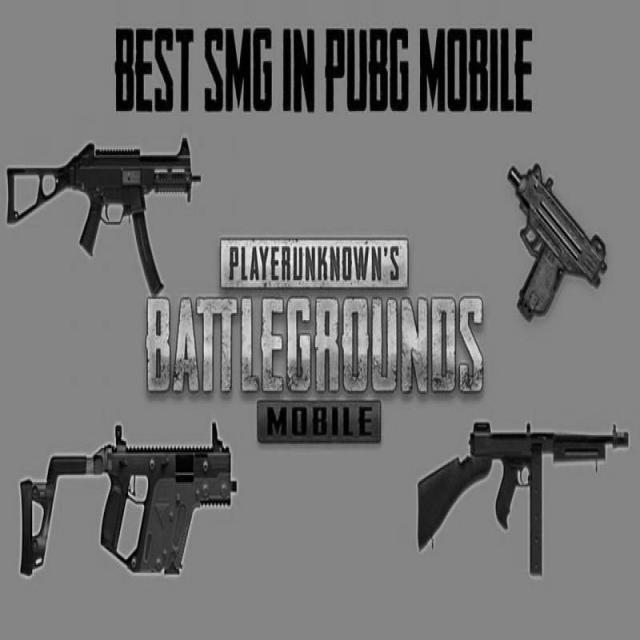Sub-machine-gun: (399, 417, 630, 599), (4, 420, 244, 590), (7, 126, 198, 301), (493, 135, 615, 328)
